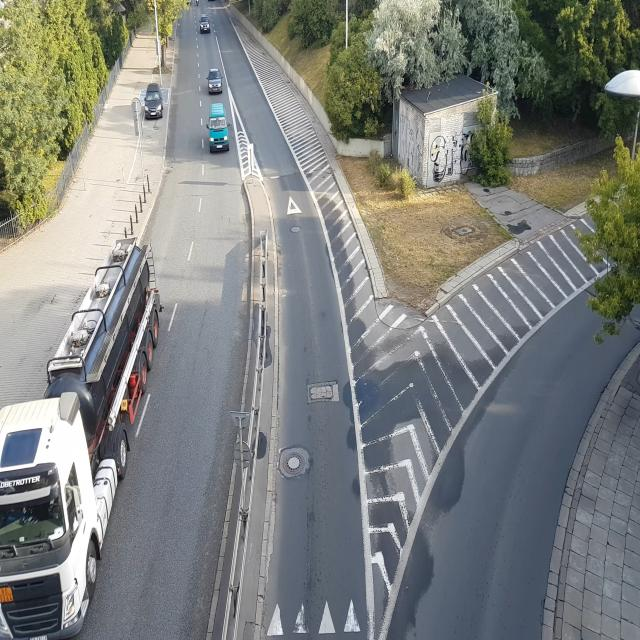car: (208, 102, 231, 153), (144, 86, 165, 119), (207, 72, 222, 95), (199, 18, 211, 32)
truck: (1, 242, 168, 640)
